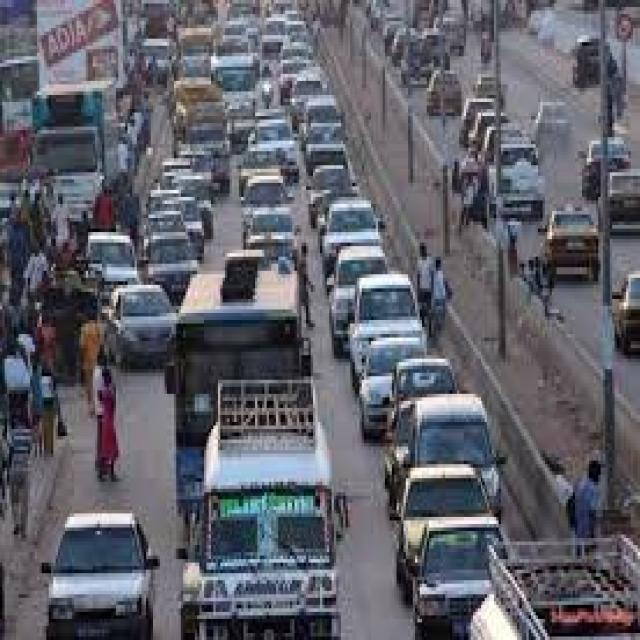ndiaga ndiaye: (205, 382, 335, 572)
particulier: (44, 513, 160, 640), (415, 518, 501, 640), (365, 338, 426, 441), (107, 285, 176, 365)
taxi: (547, 211, 599, 279), (617, 273, 640, 352)
